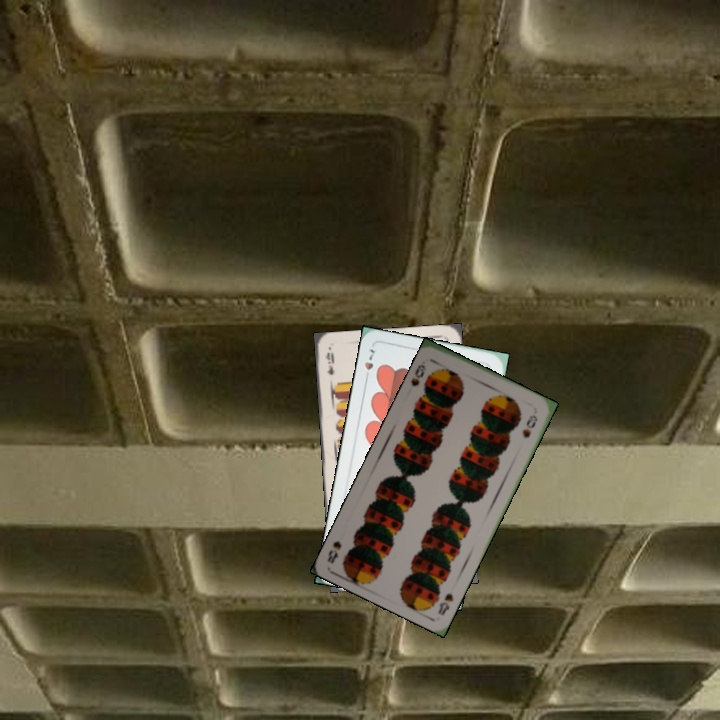E9: (321, 348, 337, 377)
H7: (360, 345, 379, 384)
S8: (407, 360, 429, 389), (434, 589, 456, 618)
